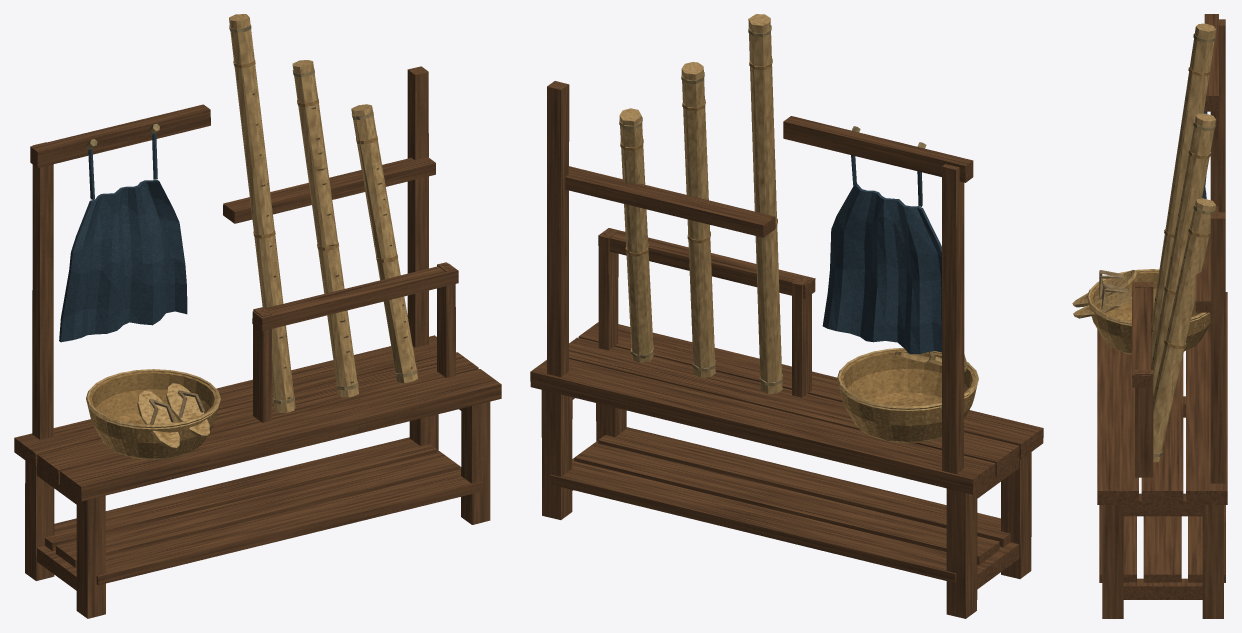
The model's file is CanalMeasuringStation_LOD1.fbx.
3 views of the same model, side by side, from view 1: azimuth 30°, elevation 25°; view 2: azimuth 150°, elevation 25°; view 3: azimuth 270°, elevation 25° (orthographic). The views are drawn at different scales.
Visible parts, largest first — view 1: CanalMeasuringStation.001; view 2: CanalMeasuringStation.001; view 3: CanalMeasuringStation.001.
Boxes of the visible parts, x1,y1,x2,y2 form: CanalMeasuringStation.001: (14,14,501,618); CanalMeasuringStation.001: (530,14,1043,618); CanalMeasuringStation.001: (1072,14,1227,618).
Bounding box in the file's own units: 1.65 × 1.92 × 0.5435.
1 material, 1 textured.
